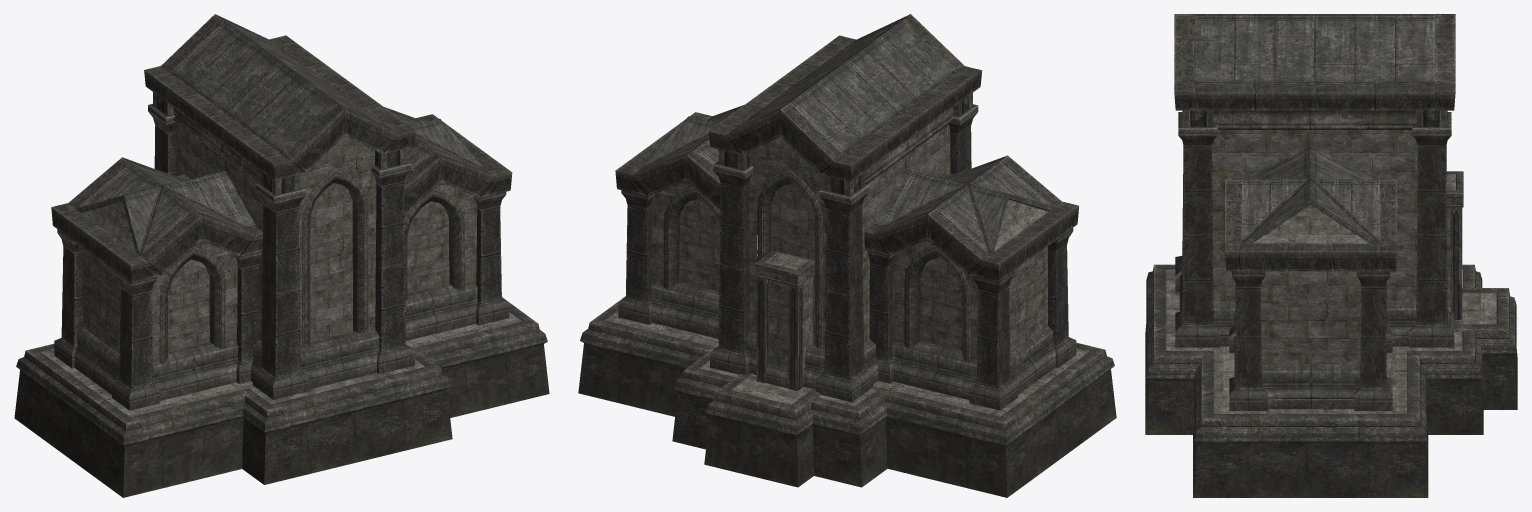
File: eso_gu1_GraveyardTomb5-transformed.glb
3 views of the same model, side by side, from view 1: azimuth 30°, elevation 25°; view 2: azimuth 150°, elevation 25°; view 3: azimuth 270°, elevation 25° (orthographic). The views are drawn at different scales.
Visible parts, largest first — view 1: default; view 2: default; view 3: default.
Boxes of the visible parts, box(x1,y1,x2,y2) form: default: box(14, 14, 549, 497); default: box(578, 14, 1116, 497); default: box(1145, 14, 1517, 497).
Bounding box in the file's own units: 17.43 × 13.41 × 12.19.
3 materials, 3 textured.
